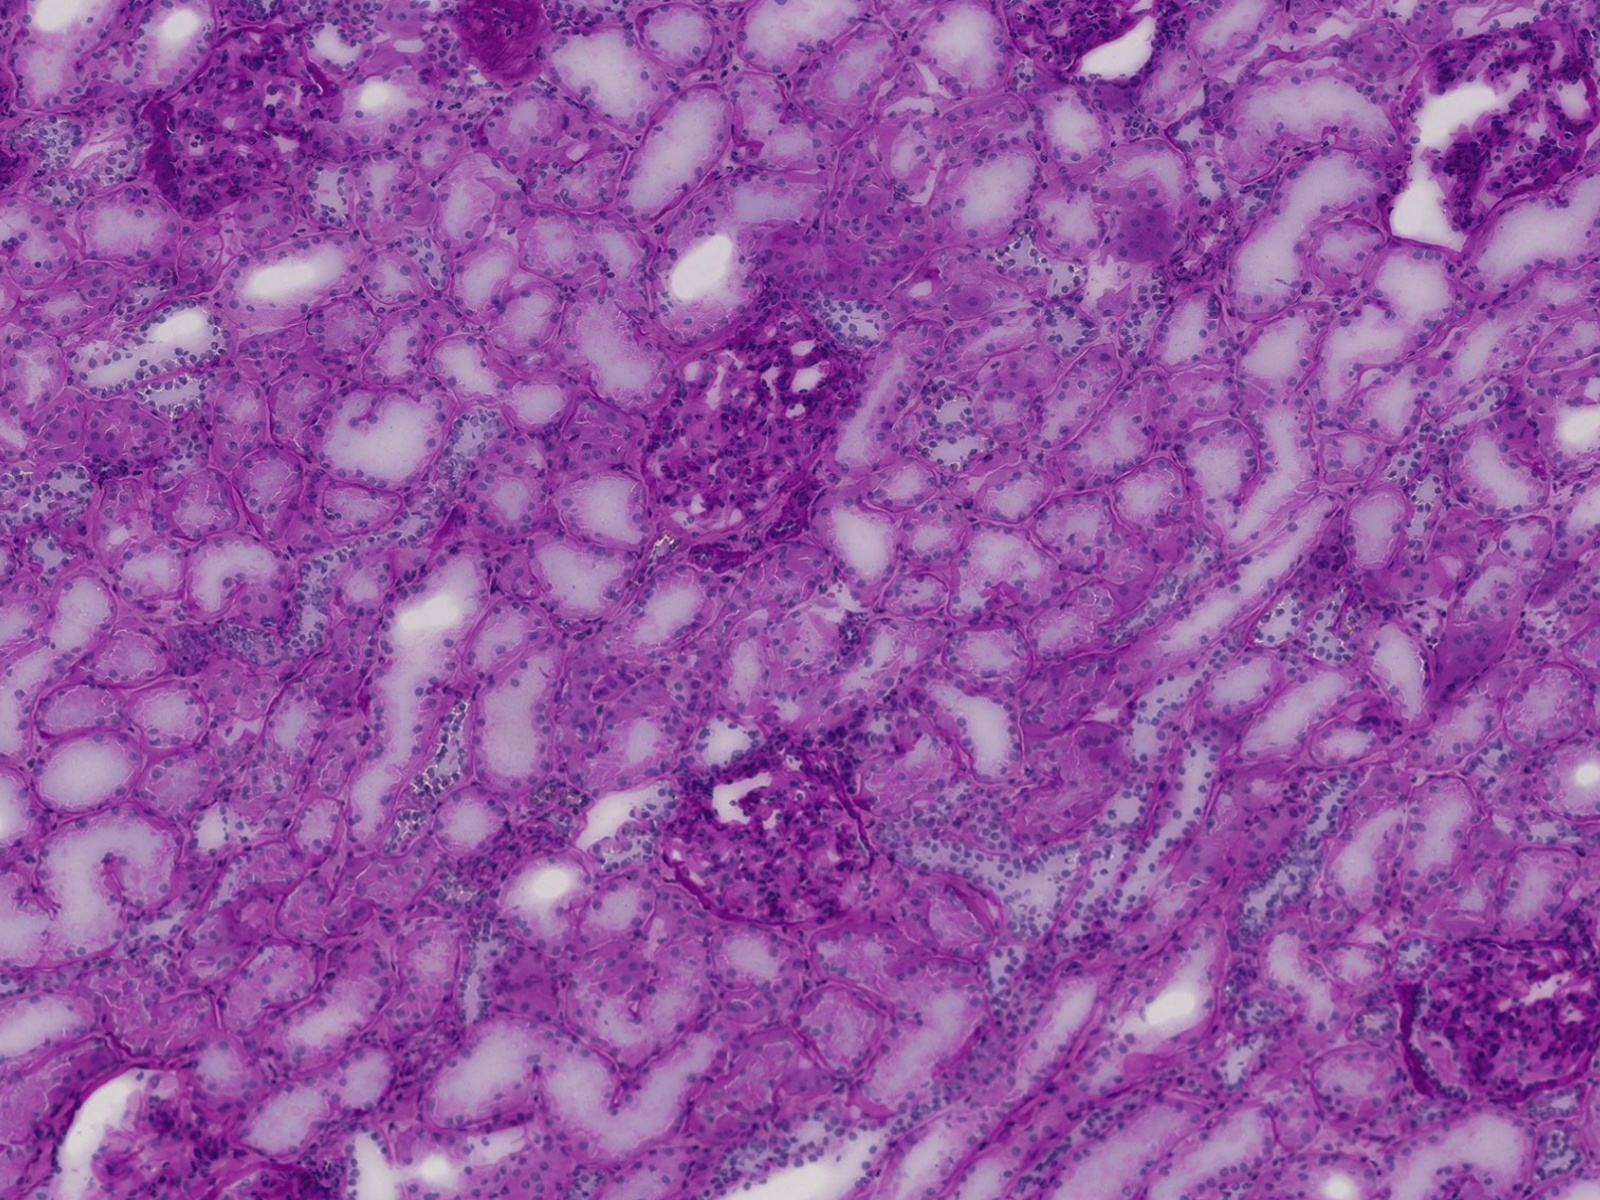Glomeruli: (632, 299, 871, 550), (1401, 23, 1600, 234), (654, 749, 883, 923), (1398, 932, 1600, 1104), (145, 29, 324, 221), (79, 1070, 328, 1200)
